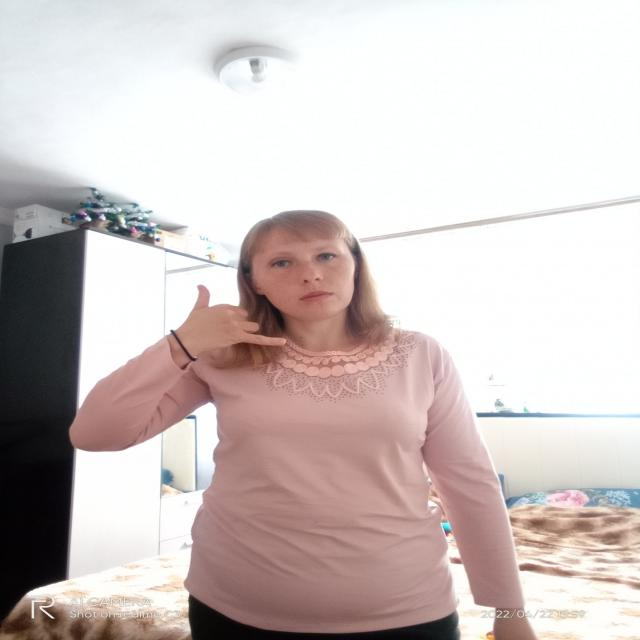call: (169, 283, 295, 359)
